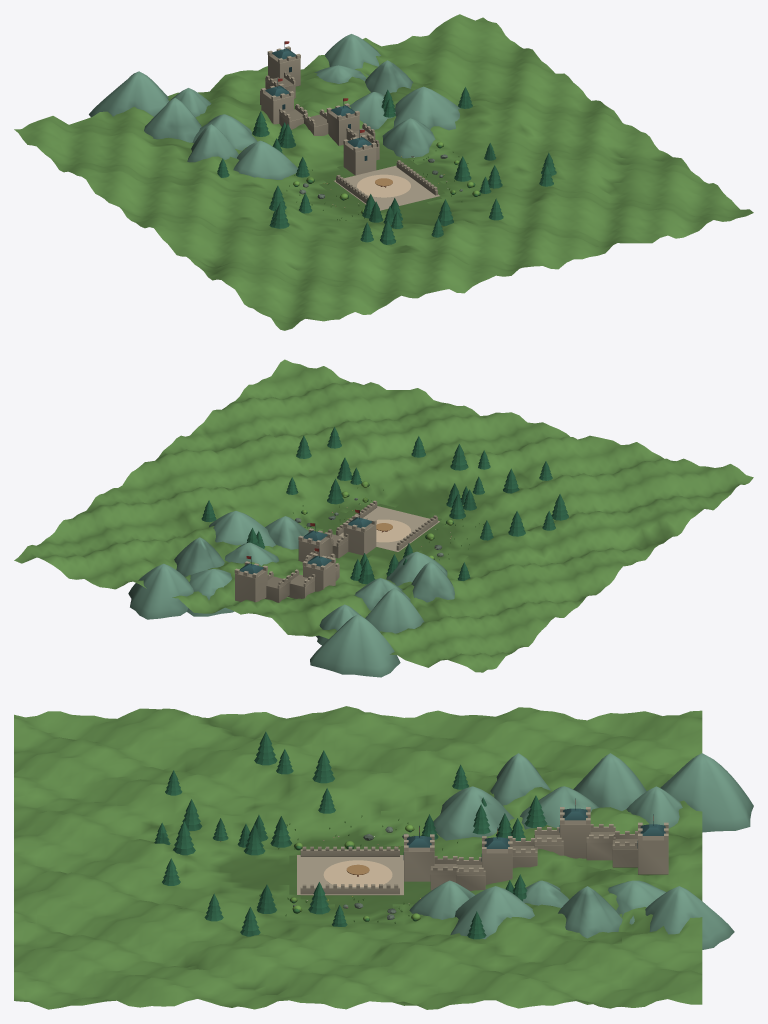
The model's file is muralha.glb.
The picture shows the model from 3 angles, top to bottom: view 1: azimuth 30°, elevation 25°; view 2: azimuth 150°, elevation 25°; view 3: azimuth 270°, elevation 25°; orthographic projection. The views are drawn at different scales.
Visible parts, largest first — view 1: muralha; view 2: muralha; view 3: muralha.
Boxes of the visible parts, x1,y1,x2,y2 form: muralha: (14, 14, 753, 330); muralha: (14, 359, 753, 677); muralha: (14, 706, 753, 1009).
Size of the model in its own units: 90 by 10.95 by 96.77.
